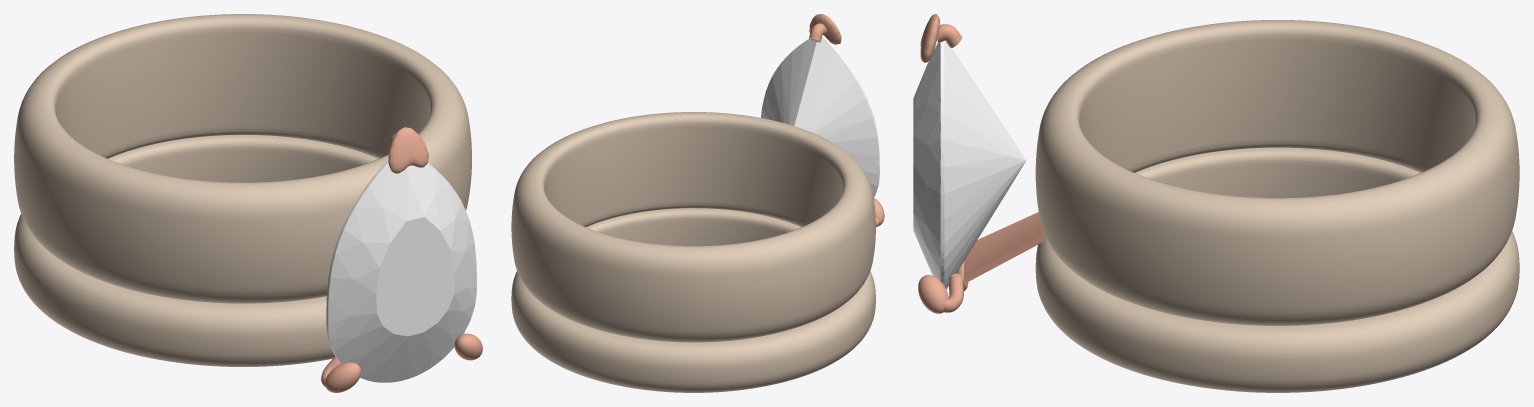
File: pear.glb
3 renders of one model, left to right at view 1: azimuth 30°, elevation 25°; view 2: azimuth 150°, elevation 25°; view 3: azimuth 270°, elevation 25°, orthographic. The views are drawn at different scales.
Parts seen in each view (by area): view 1: band_main, band_thin, stone, metal; view 2: band_main, band_thin, stone, metal; view 3: band_main, band_thin, stone, metal.
Boxes of the visible parts, box(x1,y1,x2,y2) form: band_main: box(14, 14, 471, 303); band_thin: box(14, 135, 378, 366); stone: box(326, 159, 476, 382); metal: box(321, 127, 482, 392); band_main: box(511, 112, 875, 342); band_thin: box(511, 208, 875, 392); stone: box(761, 35, 879, 197); metal: box(809, 14, 884, 227); band_main: box(1035, 20, 1519, 325); band_thin: box(1035, 147, 1519, 392); stone: box(913, 40, 1026, 289); metal: box(918, 14, 1044, 313).
Size of the model in its own units: 21.32 by 13.79 by 26.71.
